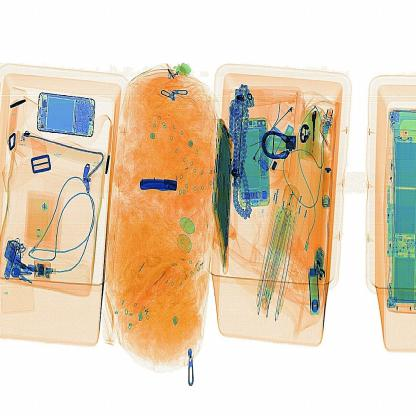knife: (134, 173, 182, 203)
